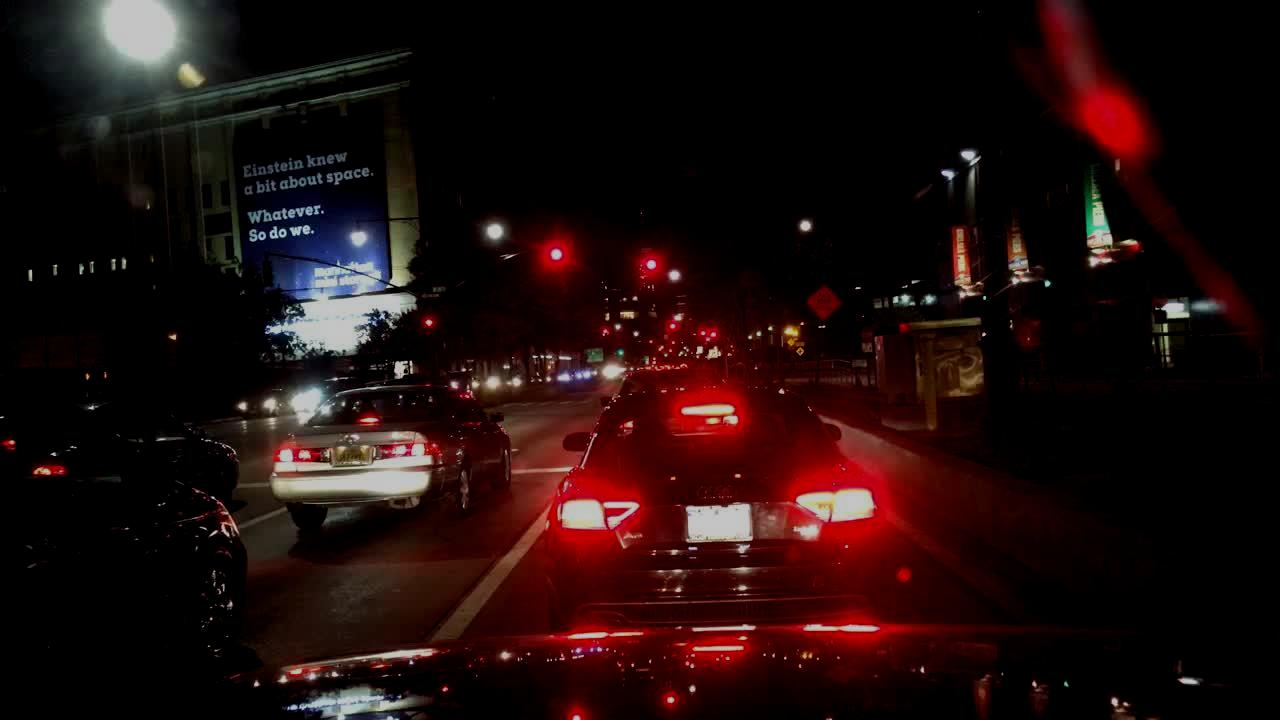Audi: (693, 480, 740, 504)
